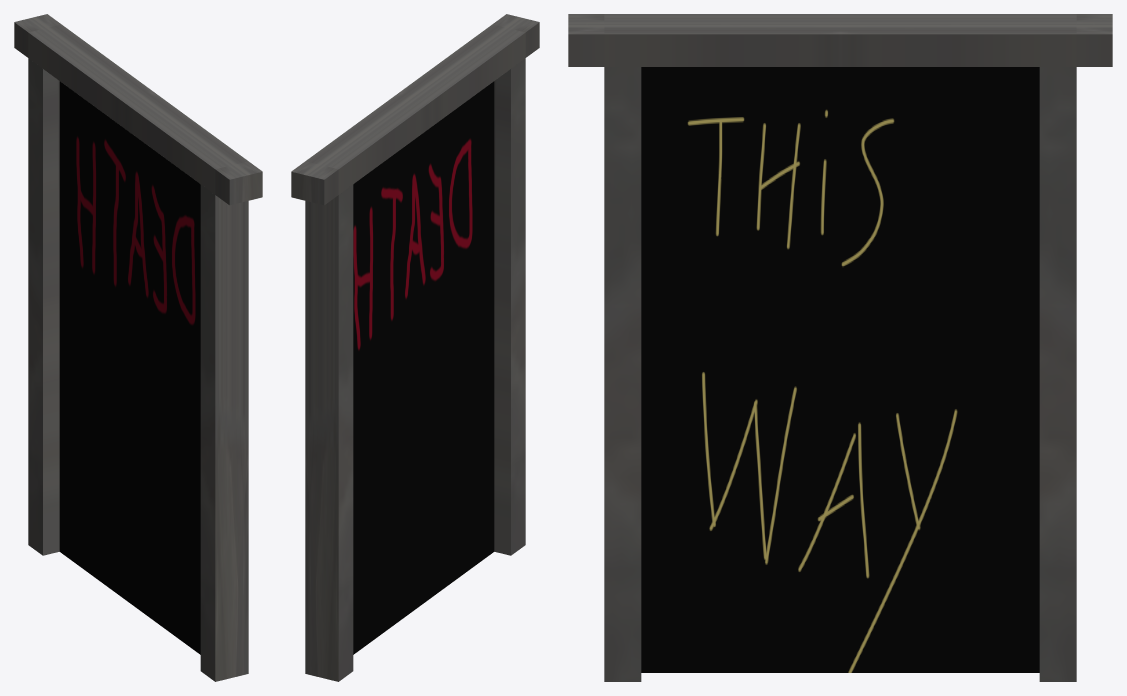
Rendered from DoorThisWayDeath.fbx.
3 views of the same model, side by side, from view 1: azimuth 30°, elevation 25°; view 2: azimuth 150°, elevation 25°; view 3: azimuth 270°, elevation 25° (orthographic). The views are drawn at different scales.
Visible parts, largest first — view 1: Plane.001, Cube.001; view 2: Plane.001, Cube.001; view 3: Plane, Cube.001.
Boxes of the visible parts, bbox=[...] form: Plane.001: bbox=[59, 81, 200, 654]; Cube.001: bbox=[14, 14, 262, 681]; Plane.001: bbox=[353, 81, 494, 654]; Cube.001: bbox=[291, 14, 539, 681]; Plane: bbox=[641, 67, 1039, 672]; Cube.001: bbox=[568, 14, 1112, 681].
Size of the model in its own units: 41.06 by 605 by 461.
